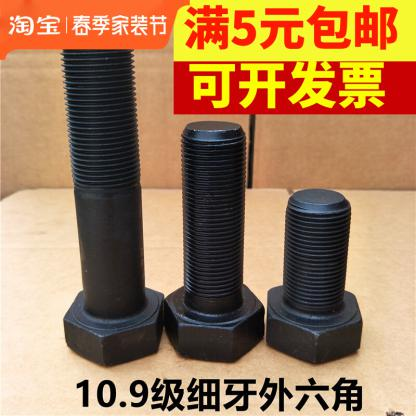FOD: (60, 46, 164, 369), (162, 119, 267, 366), (264, 188, 365, 364)
